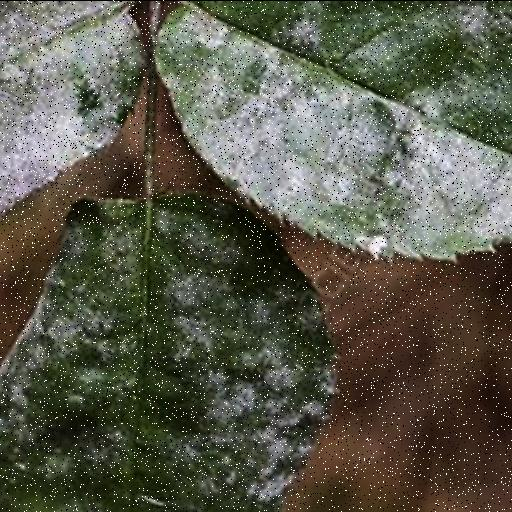powdery_mildew: (0, 194, 334, 512), (156, 0, 512, 258), (0, 0, 145, 218)
